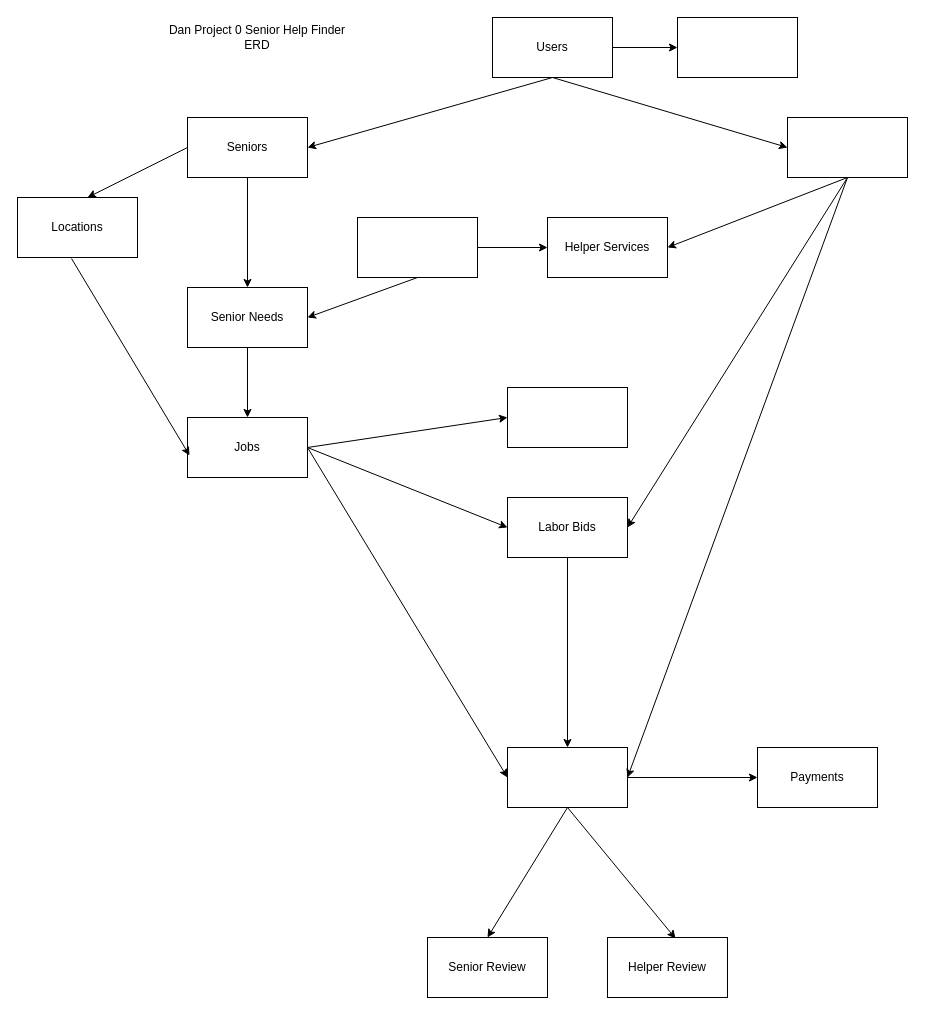
Image size: 925x1015. Some labels were removed from this diagram. The box of each missing label's shape, as (x1, y1, x2, y2) in pixels:
Common Needs: (356, 216, 478, 278)
Contracts: (506, 746, 628, 808)
Expenses: (506, 386, 628, 448)
Helpers: (786, 116, 908, 178)
Owners: (676, 16, 798, 78)
